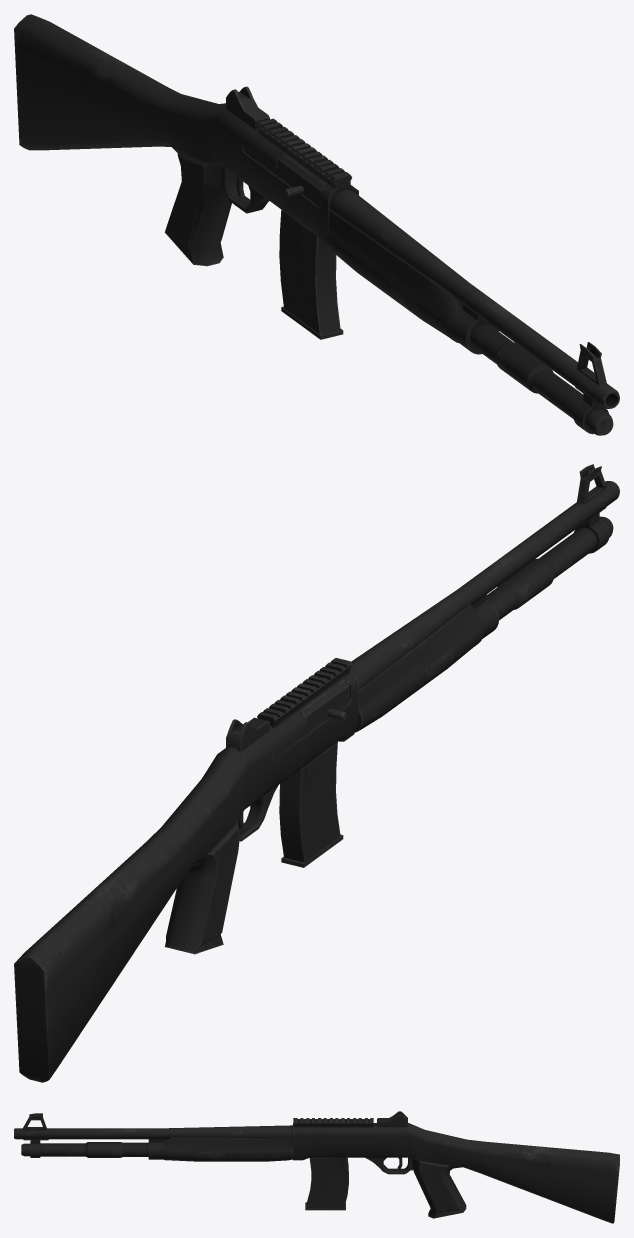
File: Automatic_Shotgun.fbx
3 views of the same model, one above another, from view 1: azimuth 30°, elevation 25°; view 2: azimuth 150°, elevation 25°; view 3: azimuth 270°, elevation 25° (orthographic). The views are drawn at different scales.
Parts seen in each view (by area): view 1: automatic_shotgun, garde, load, plaquette, culasse; view 2: automatic_shotgun, garde, load, plaquette, culasse; view 3: automatic_shotgun, garde, load, plaquette.
Part boxes in pixels (<box>): automatic_shotgun: <box>14,14,619,435</box>; garde: <box>326,210,498,354</box>; load: <box>279,210,343,339</box>; plaquette: <box>166,151,231,249</box>; culasse: <box>244,144,324,206</box>; automatic_shotgun: <box>14,464,619,1082</box>; garde: <box>355,594,498,732</box>; load: <box>279,741,343,867</box>; plaquette: <box>166,823,239,947</box>; culasse: <box>273,681,349,757</box>; automatic_shotgun: <box>14,1111,619,1223</box>; garde: <box>148,1137,292,1161</box>; load: <box>305,1157,348,1210</box>; plaquette: <box>417,1160,461,1211</box>.
Size of the model in its own units: 4.75 by 20.18 by 102.
Materials: 1 (1 with a texture image).
